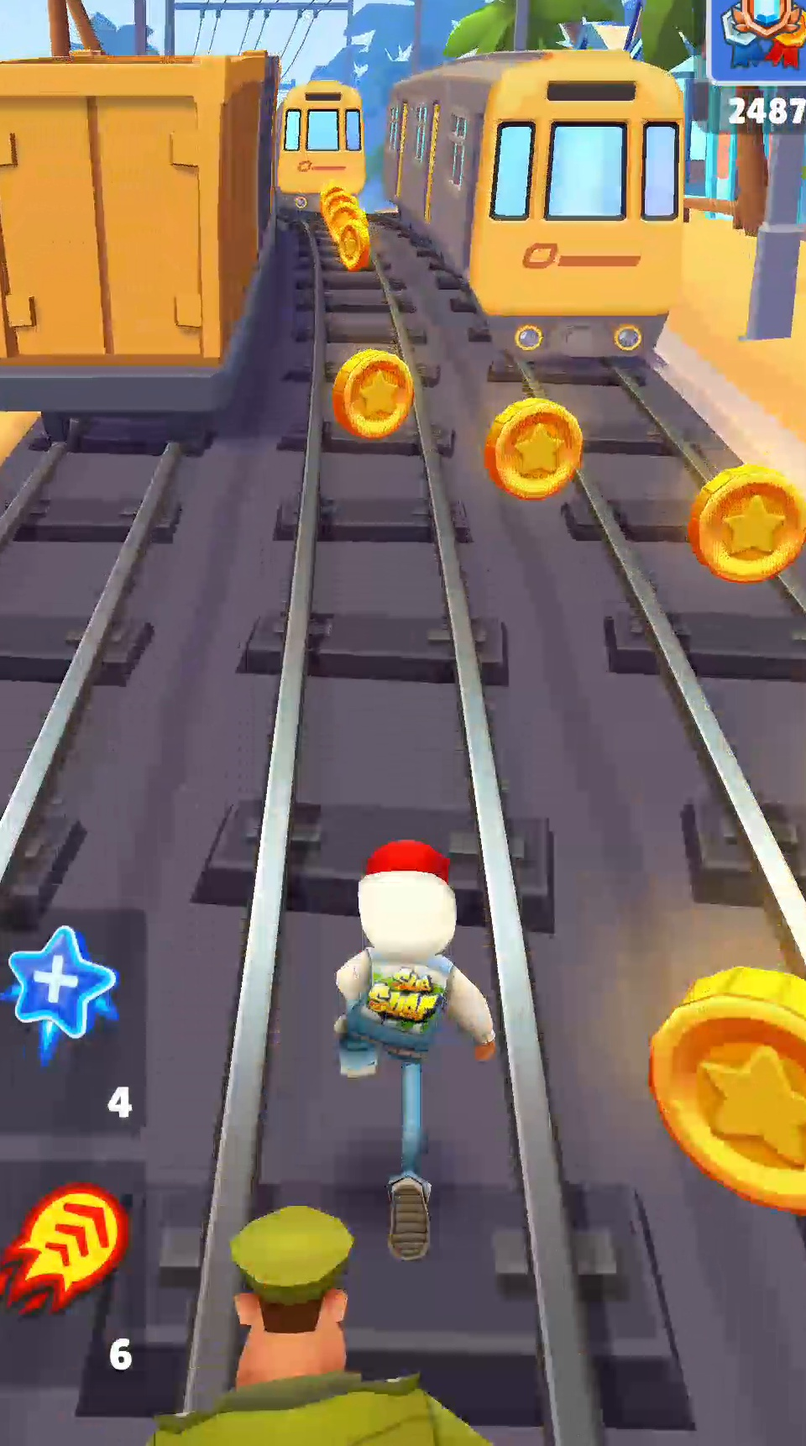police: (150, 1206, 483, 1445)
train: (0, 50, 278, 431), (385, 49, 685, 361), (278, 82, 364, 195)
